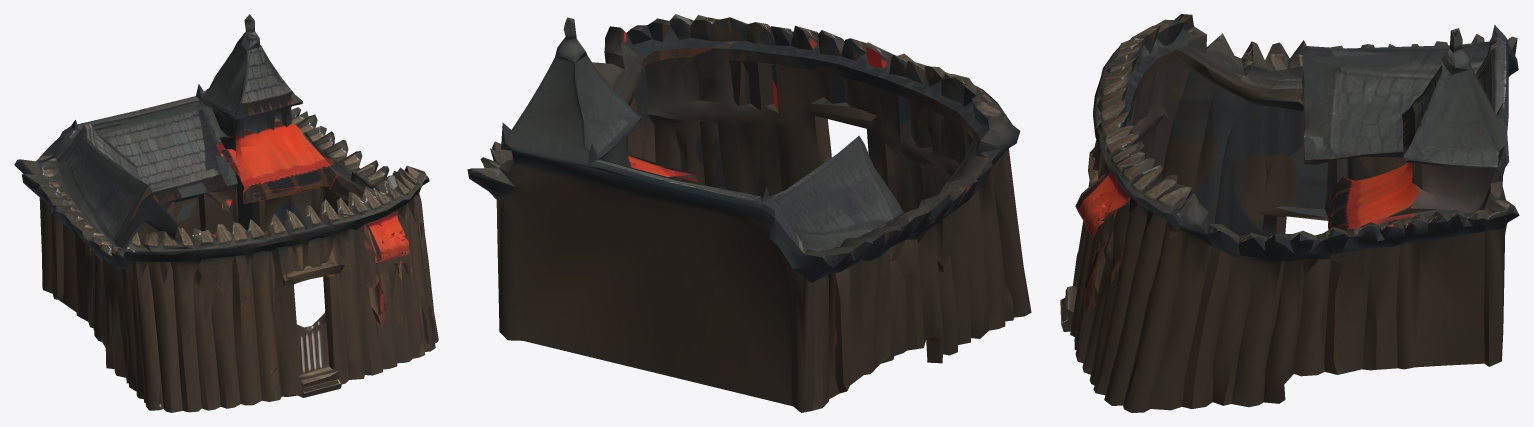
Rendered from ayutthaya_kraal.glb.
The picture shows the model from 3 angles, left to right: view 1: azimuth 30°, elevation 25°; view 2: azimuth 150°, elevation 25°; view 3: azimuth 270°, elevation 25°; orthographic projection. The views are drawn at different scales.
Parts seen in each view (by area): view 1: geometry_0; view 2: geometry_0; view 3: geometry_0.
Part boxes in pixels (box(x1,y1,x2,y2)): geometry_0: box(14, 14, 438, 412); geometry_0: box(467, 14, 1031, 412); geometry_0: box(1060, 14, 1519, 412).
Size of the model in its own units: 2.4 by 1.9 by 2.32.
Materials: 1 (1 with a texture image).
